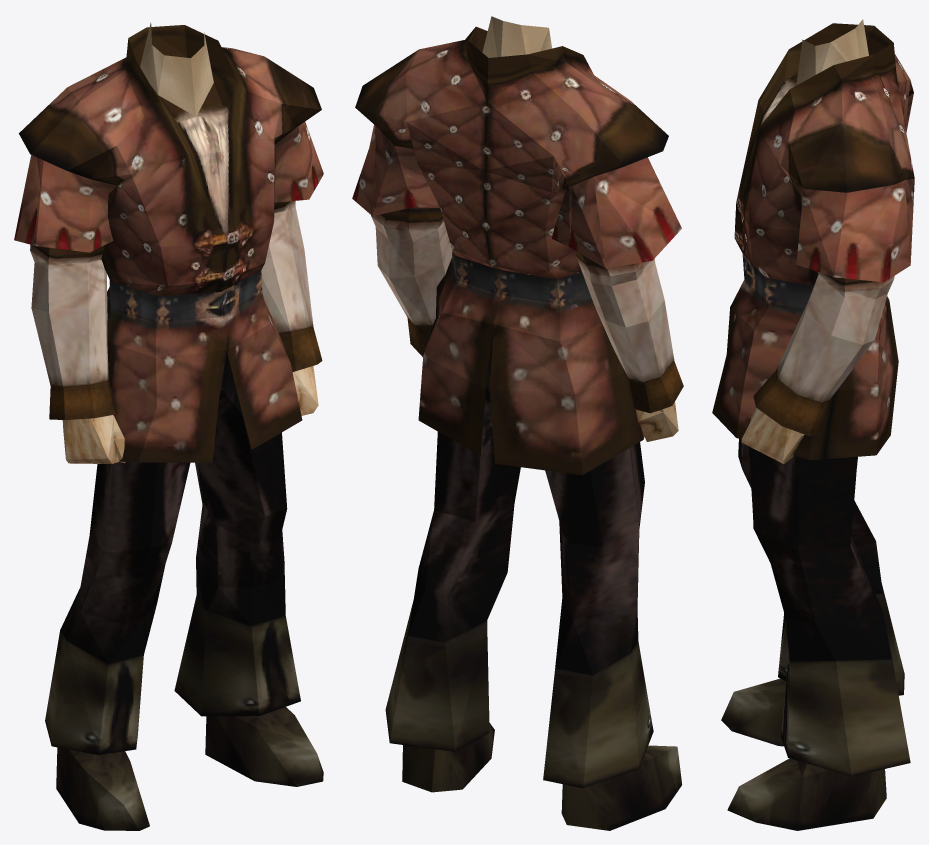
File: Armor_Ranger_Addon.glb
The picture shows the model from 3 angles, left to right: view 1: azimuth 30°, elevation 25°; view 2: azimuth 150°, elevation 25°; view 3: azimuth 270°, elevation 25°; orthographic projection. The views are drawn at different scales.
Visible parts, largest first — view 1: Armor_Ranger_Addonzm_Body; view 2: Armor_Ranger_Addonzm_Body; view 3: Armor_Ranger_Addonzm_Body.
Part boxes in pixels (box(x1,y1,x2,y2)): Armor_Ranger_Addonzm_Body: box(14, 22, 323, 830); Armor_Ranger_Addonzm_Body: box(352, 16, 683, 830); Armor_Ranger_Addonzm_Body: box(712, 19, 914, 830).
Size of the model in its own units: 0.6944 by 1.69 by 0.4087.
Materials: 2 (2 with a texture image).
